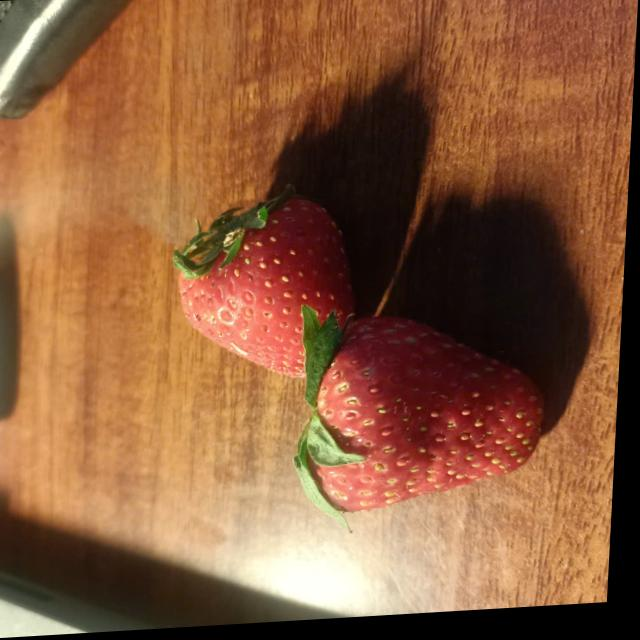DauTay: (154, 174, 573, 548)
